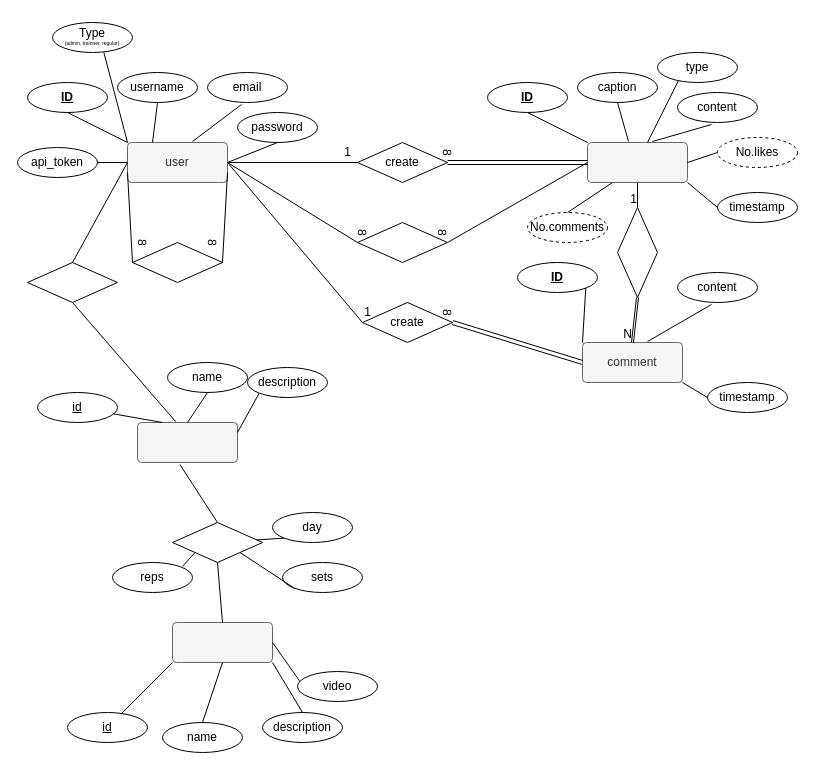
This 815x770 diagram has some shape labels left out. Here are the shapes that lost their labels. From the top down, the box of each, then its label:
(586, 142, 688, 182): post
(132, 242, 222, 282): addFriend
(356, 222, 448, 262): likes
(616, 206, 658, 298): has
(26, 262, 118, 302): enroll to
(136, 422, 238, 462): TrainingProgram
(172, 522, 262, 562): contains
(172, 622, 272, 662): exercices
